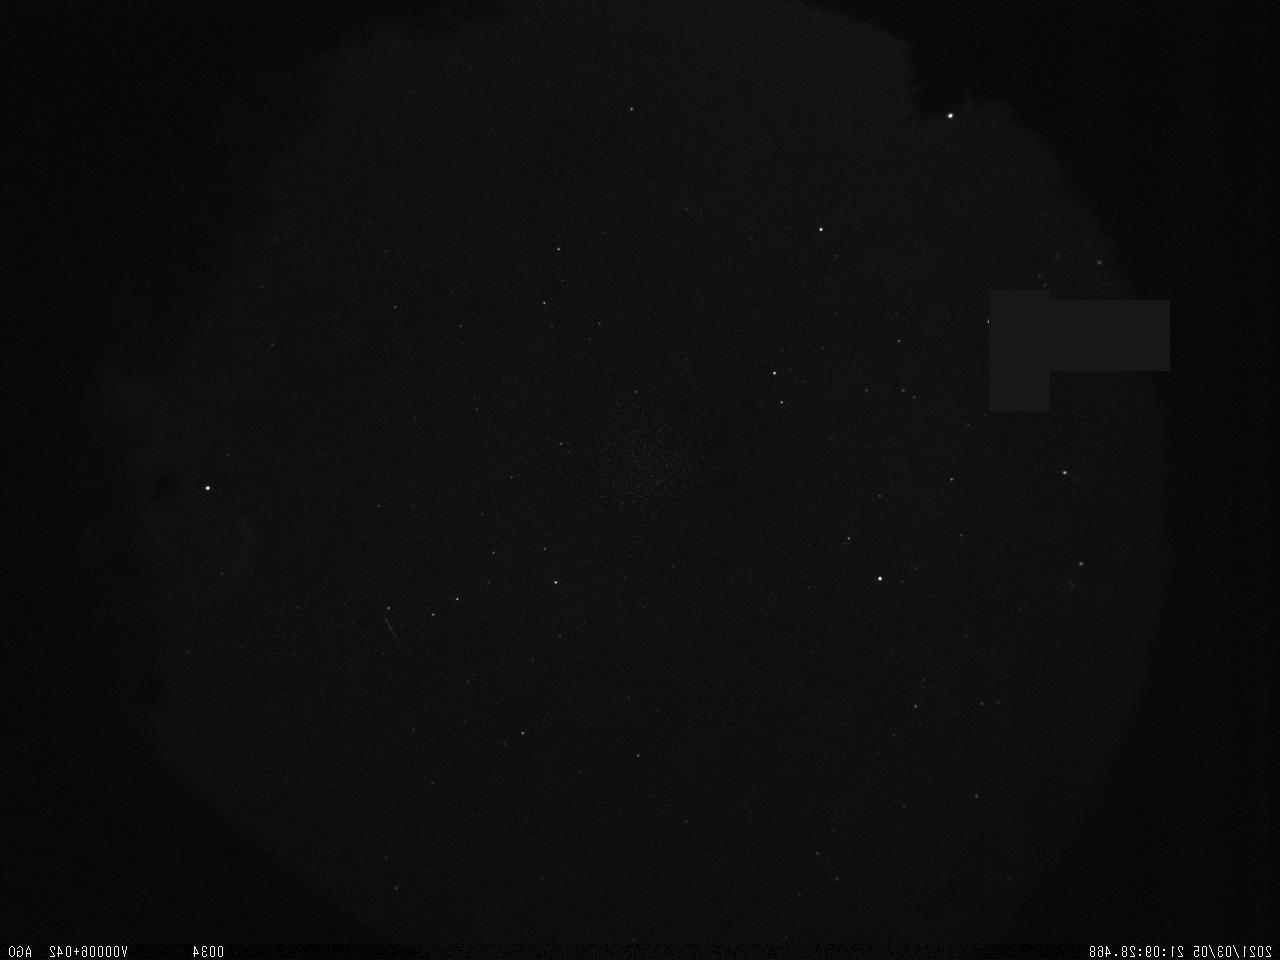meteor: (376, 610, 406, 644)
